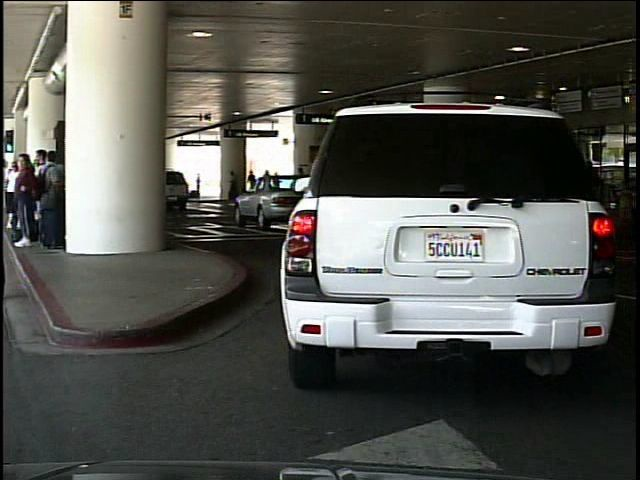person: (228, 169, 240, 203), (196, 172, 203, 199)
